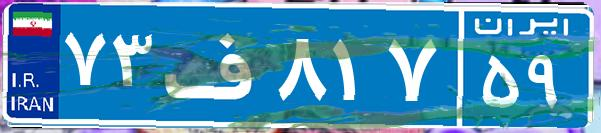1: (330, 28, 385, 110)
3: (110, 28, 158, 105)
5: (475, 38, 525, 113)
7: (385, 28, 445, 110), (57, 26, 110, 107)
8: (273, 28, 330, 110)
9: (525, 38, 570, 115)
ف: (158, 15, 273, 115)
